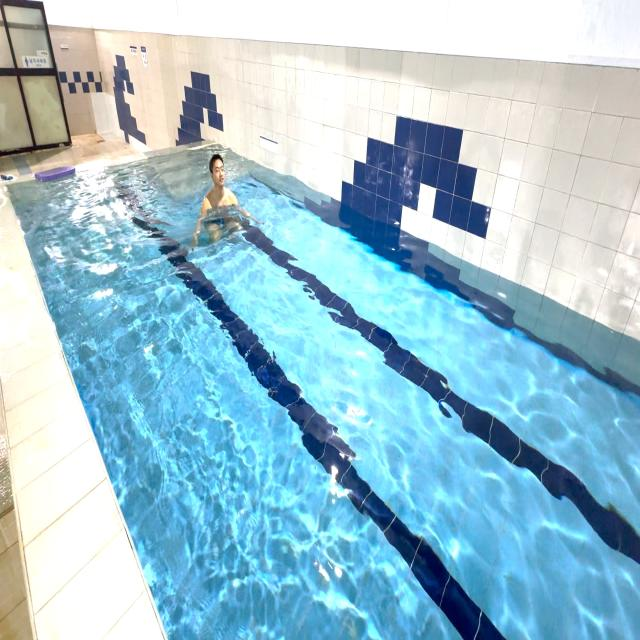Swimming: (188, 148, 254, 255)
